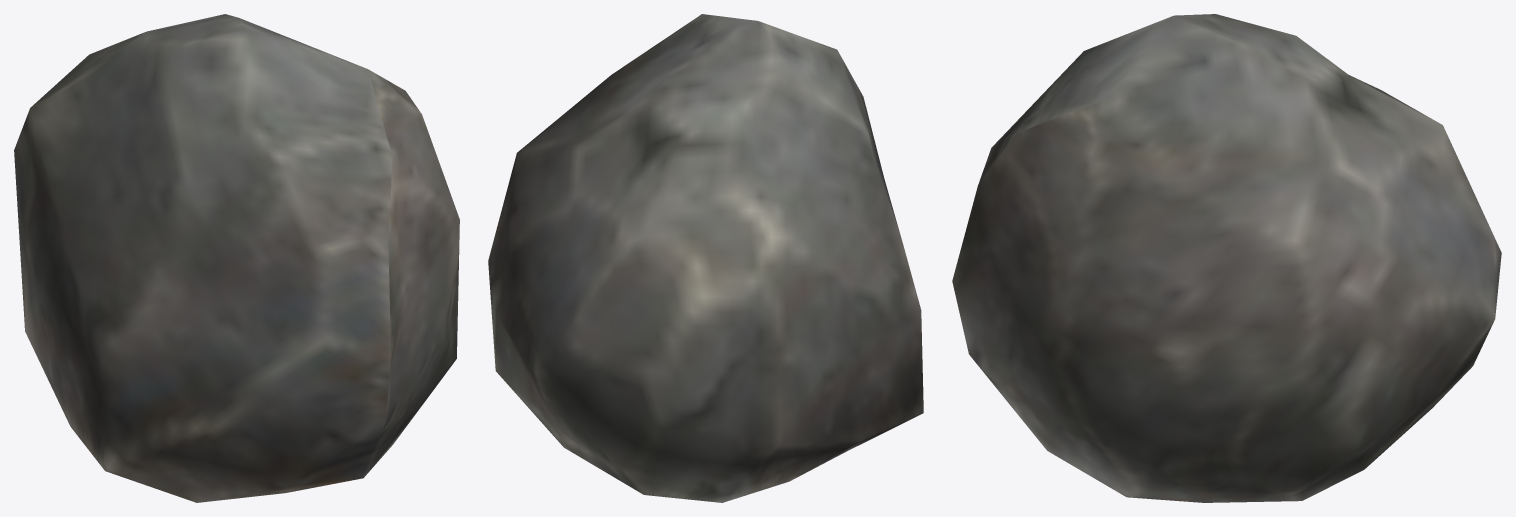
File: StoneCliff_L.fbx
3 renders of one model, left to right at view 1: azimuth 30°, elevation 25°; view 2: azimuth 150°, elevation 25°; view 3: azimuth 270°, elevation 25°, orthographic. The views are drawn at different scales.
Parts seen in each view (by area): view 1: Stone_Cliff_L__31_; view 2: Stone_Cliff_L__31_; view 3: Stone_Cliff_L__31_.
Boxes of the visible parts, box(x1,y1,x2,y2) form: Stone_Cliff_L__31_: box(14, 14, 459, 502); Stone_Cliff_L__31_: box(488, 14, 923, 502); Stone_Cliff_L__31_: box(952, 14, 1501, 502).
Size of the model in its own units: 0.5208 by 0.5655 by 0.6619.
